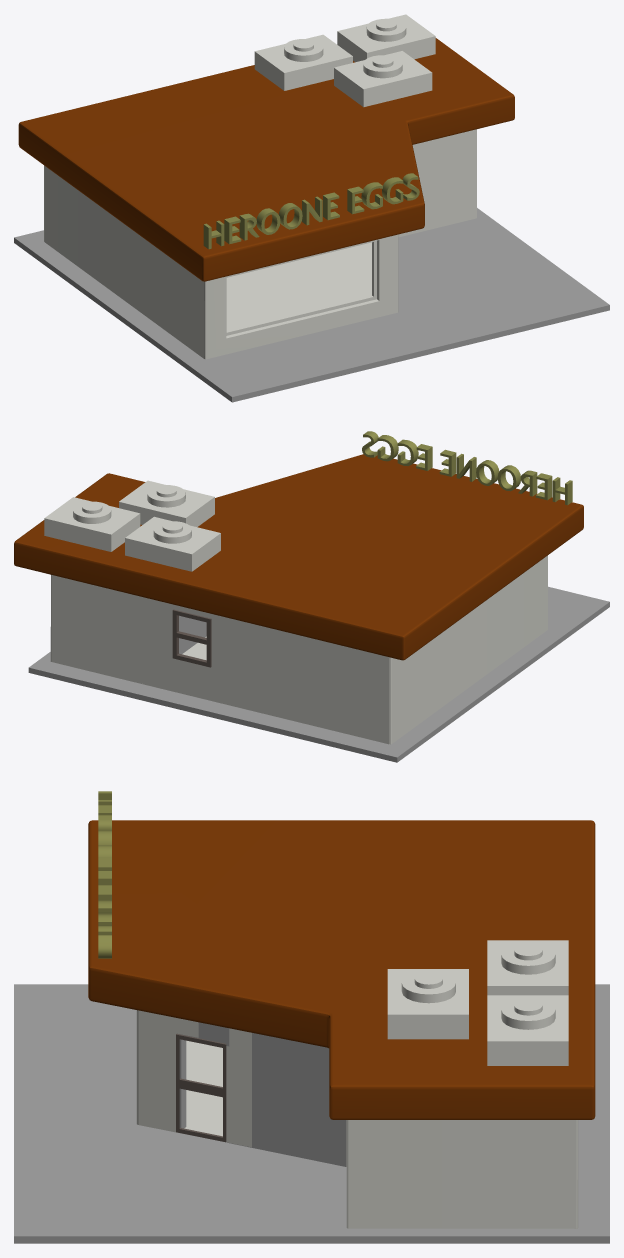
Rendered from Restaurantv3.fbx.
3 renders of one model, top to bottom at view 1: azimuth 30°, elevation 25°; view 2: azimuth 150°, elevation 25°; view 3: azimuth 270°, elevation 25°, orthographic. The views are drawn at different scales.
Visible parts, largest first — view 1: pCube3, pCube1, polySurface10, typeMesh1, pCylinder5, pCylinder4, pCylinder3; view 2: pCube3, polySurface10, polySurface7, pCube1, typeMesh1, pCylinder4, pCylinder3, pCylinder5, pCube18, polySurface8, pCube41; view 3: pCube3, pCube1, polySurface10, pCube25, pCylinder3, pCylinder5, pCylinder4, typeMesh1, pCube14, pCube29.
Boxes of the visible parts, left/top/right/bottom form: pCube3: left=18, top=38, right=514, bottom=281; pCube1: left=14, top=208, right=609, bottom=402; polySurface10: left=44, top=129, right=476, bottom=359; typeMesh1: left=203, top=173, right=419, bottom=249; pCylinder5: left=334, top=51, right=432, bottom=107; pCylinder4: left=254, top=34, right=352, bottom=90; pCylinder3: left=337, top=14, right=435, bottom=62; pCube3: left=14, top=454, right=583, bottom=660; polySurface10: left=51, top=555, right=547, bottom=744; polySurface7: left=211, top=614, right=390, bottom=744; pCube1: left=28, top=586, right=609, bottom=762; typeMesh1: left=362, top=431, right=572, bottom=505; pCylinder4: left=125, top=516, right=220, bottom=571; pCylinder3: left=44, top=497, right=140, bottom=551; pCylinder5: left=119, top=480, right=214, bottom=526; pCube18: left=172, top=609, right=211, bottom=667; polySurface8: left=50, top=627, right=208, bottom=698; pCube41: left=179, top=615, right=206, bottom=654; pCube3: left=88, top=820, right=595, bottom=1119; pCube1: left=14, top=984, right=609, bottom=1243; polySurface10: left=136, top=1010, right=578, bottom=1228; pCube25: left=227, top=1033, right=346, bottom=1166; pCylinder3: left=487, top=995, right=568, bottom=1065; pCylinder5: left=387, top=969, right=468, bottom=1039; pCylinder4: left=487, top=940, right=568, bottom=995; typeMesh1: left=98, top=791, right=111, bottom=958; pCube14: left=176, top=1034, right=226, bottom=1142; pCube29: left=179, top=1039, right=186, bottom=1128.
Size of what is drawn, in the model's own units: 23.36 by 8.75 by 22.
